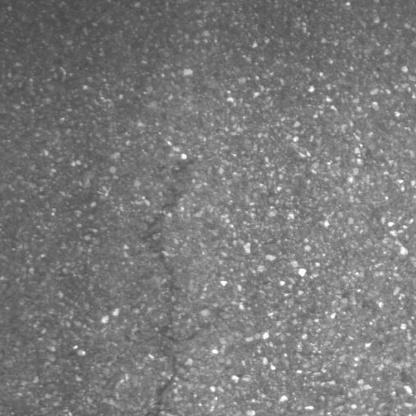Cracks: (143, 200, 183, 416)
